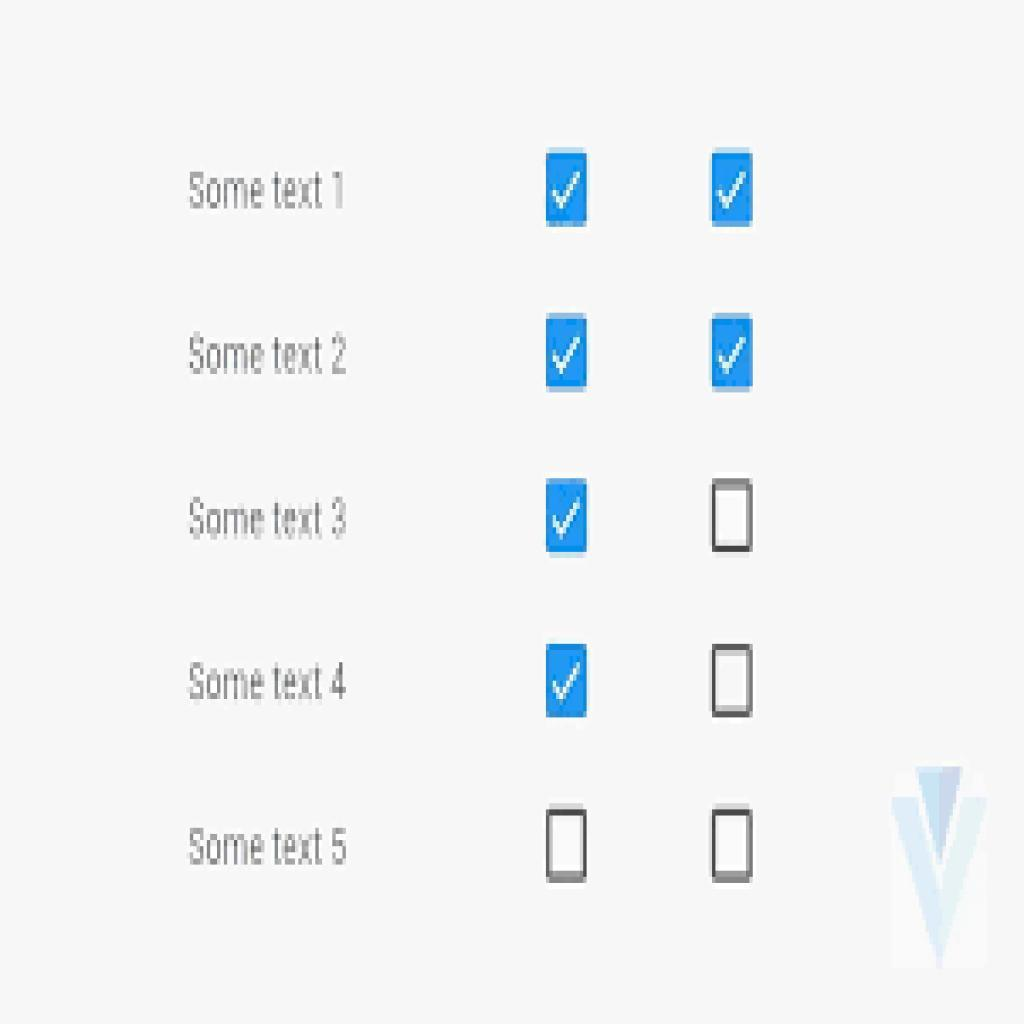checkbox: (546, 314, 592, 396), (542, 154, 592, 229), (711, 315, 756, 395), (711, 147, 755, 228), (546, 805, 589, 885), (545, 480, 590, 556), (545, 645, 590, 721), (711, 477, 754, 555), (712, 807, 753, 886), (711, 645, 754, 718)
